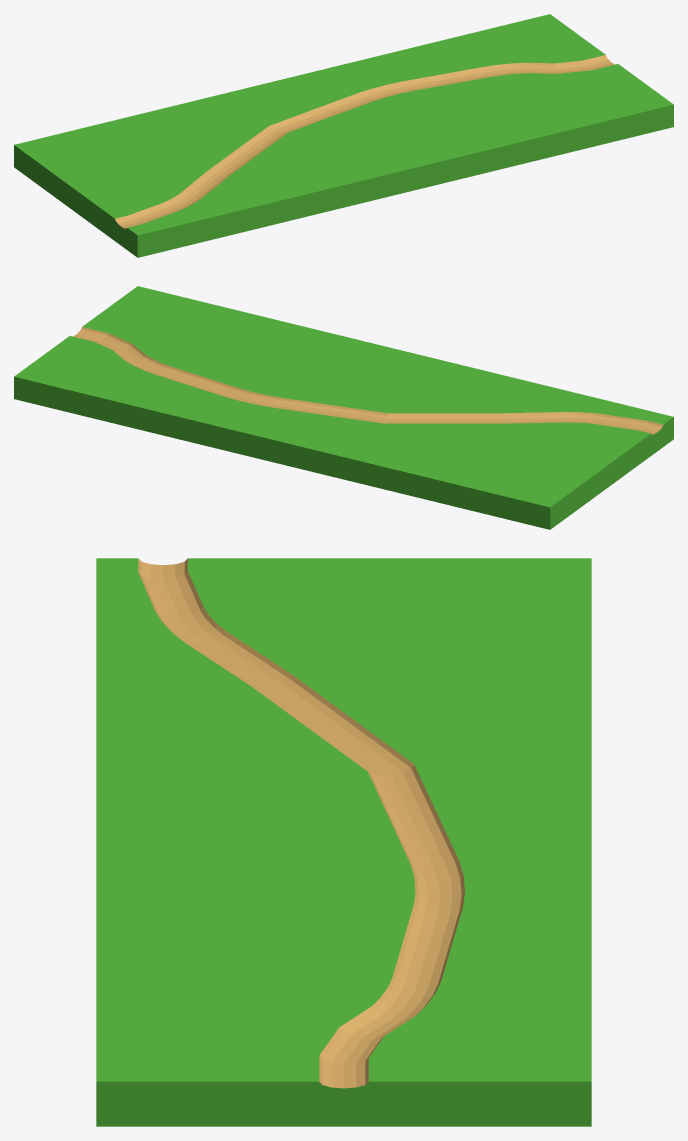
The model's file is way1.fbx.
3 views of the same model, one above another, from view 1: azimuth 30°, elevation 25°; view 2: azimuth 150°, elevation 25°; view 3: azimuth 270°, elevation 25° (orthographic). The views are drawn at different scales.
Visible parts, largest first — view 1: ground.001; view 2: ground.001; view 3: ground.001.
Part boxes in pixels (<box>): ground.001: <box>14,14,673,257</box>; ground.001: <box>14,286,673,529</box>; ground.001: <box>96,558,591,1126</box>.
Bounding box in the file's own units: 5000 × 200 × 2000.
